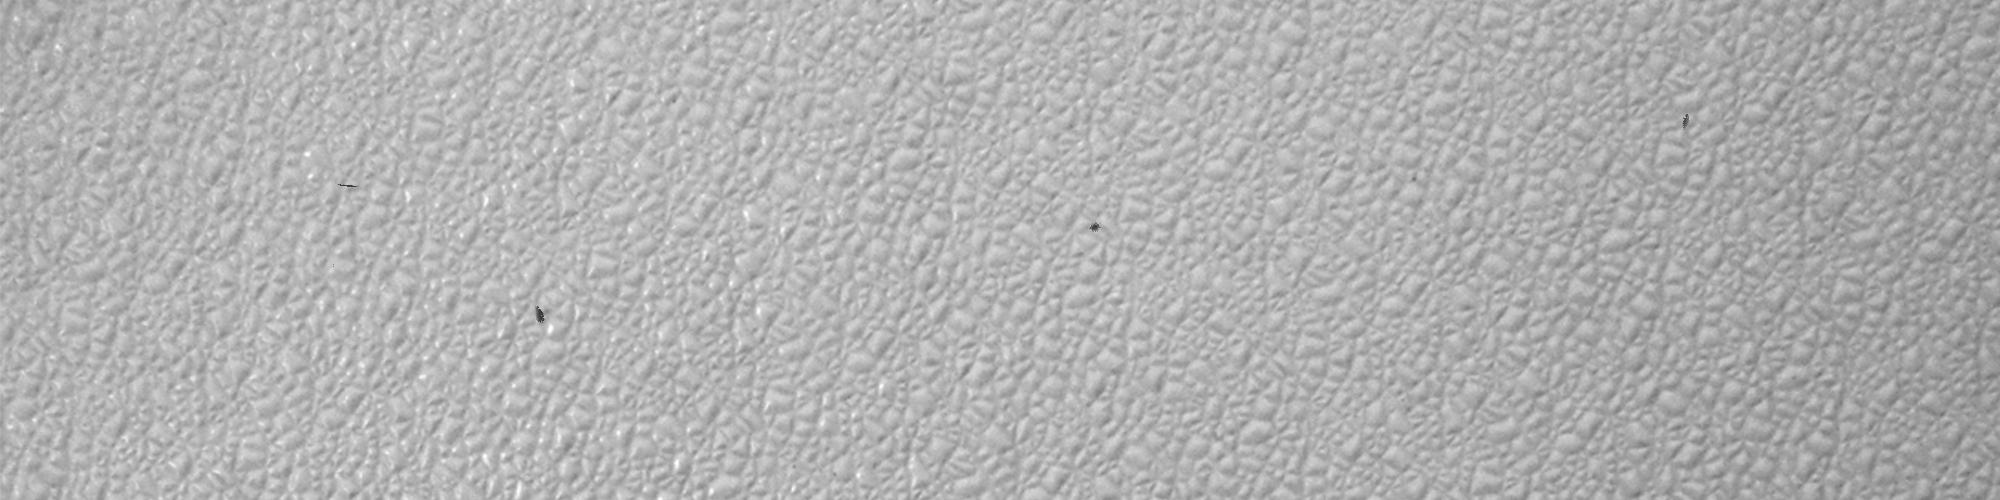Decomposed: (1083, 216, 1105, 239), (526, 305, 548, 319), (339, 176, 364, 187)
